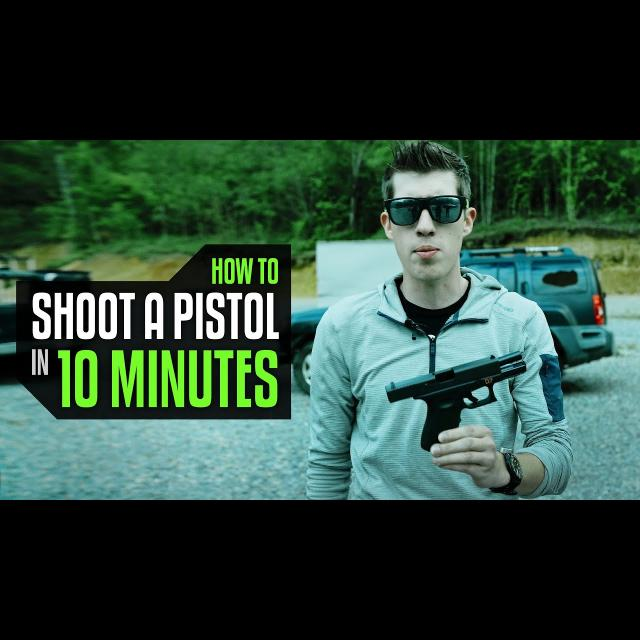handgun: (382, 347, 528, 451)
